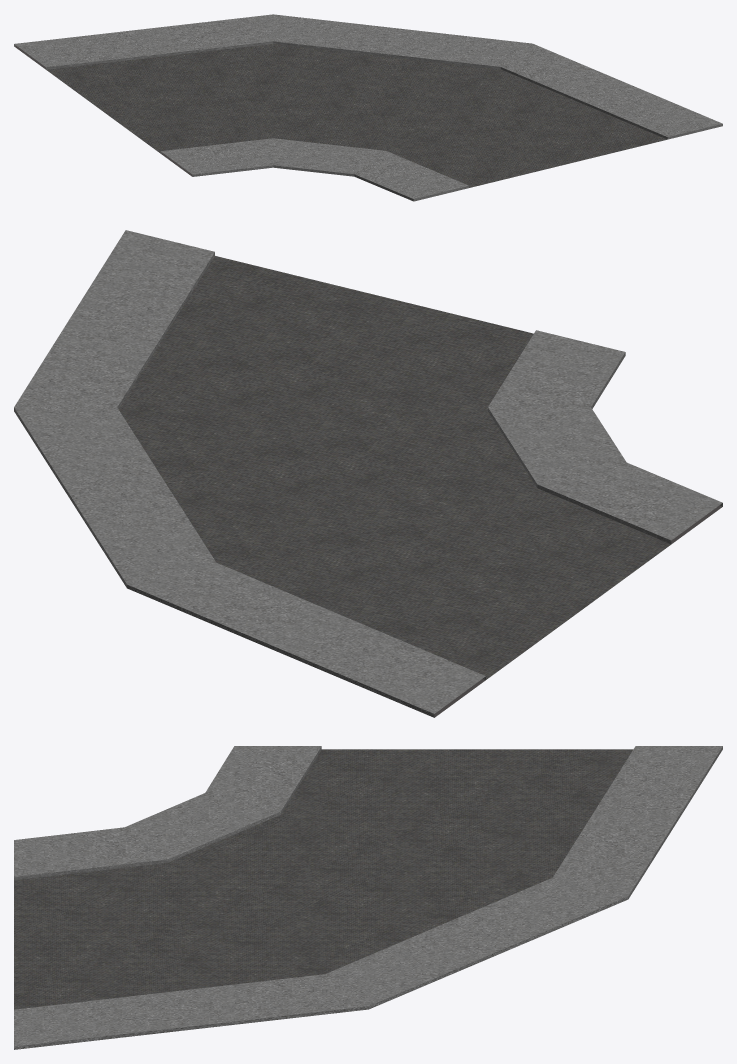
File: Road_Curve.obj
3 renders of one model, top to bottom at view 1: azimuth 30°, elevation 25°; view 2: azimuth 150°, elevation 25°; view 3: azimuth 270°, elevation 25°, orthographic. The views are drawn at different scales.
Parts seen in each view (by area): view 1: Road_Curve; view 2: Road_Curve; view 3: Road_Curve.
Boxes of the visible parts, x1,y1,x2,y2 form: Road_Curve: (14, 14, 722, 201); Road_Curve: (14, 230, 722, 717); Road_Curve: (14, 746, 722, 1049).
Size of the model in its own units: 22.66 by 0.1182 by 22.59.
